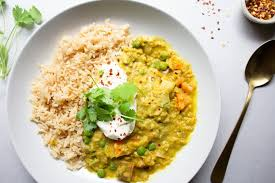rice: (36, 26, 186, 169)
